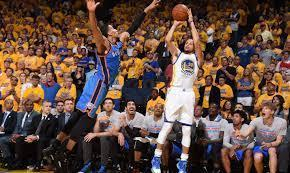ball: (172, 3, 189, 21)
human: (45, 0, 161, 167), (149, 8, 205, 173)
